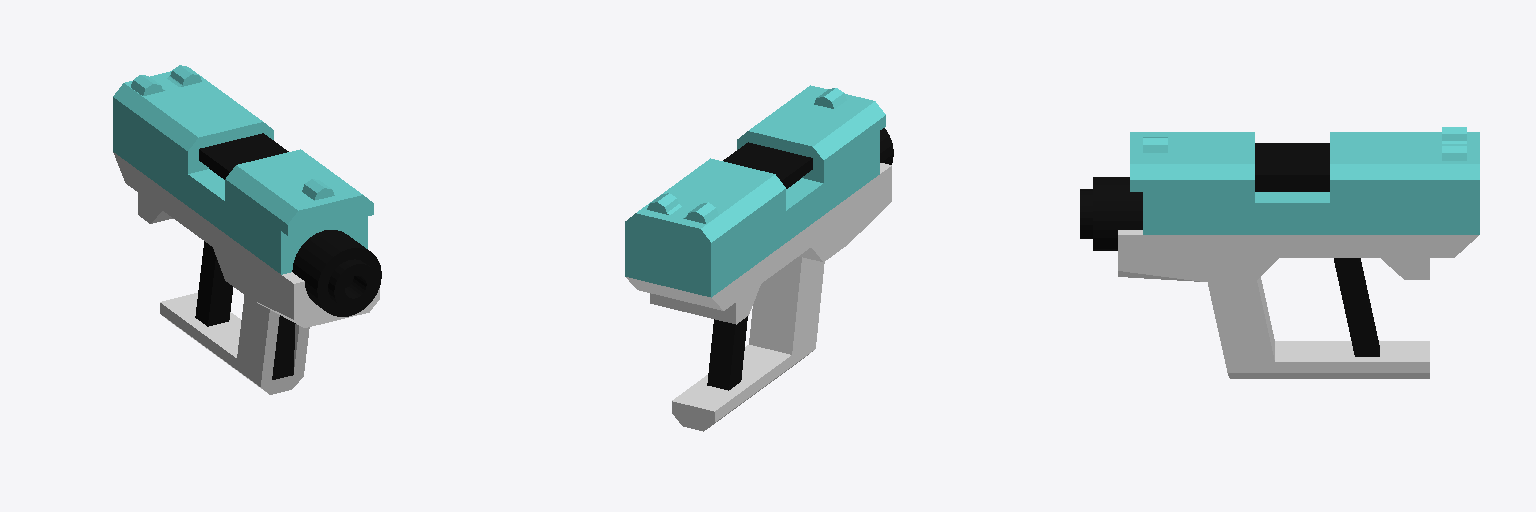
The model's file is Faser.obj.
3 renders of one model, left to right at view 1: azimuth 30°, elevation 25°; view 2: azimuth 150°, elevation 25°; view 3: azimuth 270°, elevation 25°, orthographic.
Bounding box in the file's own units: 0.4 × 1.04 × 1.6.